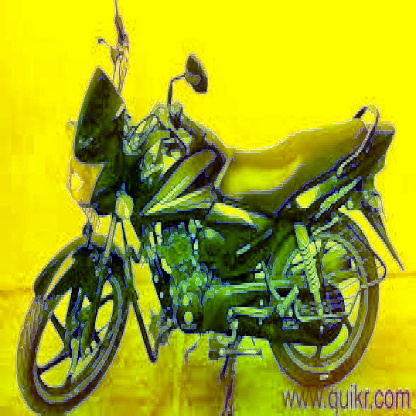bike: (27, 36, 385, 414)
